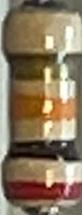Black: (7, 139, 81, 160)
Brown: (5, 53, 82, 81)
Orange: (11, 95, 76, 117)
Red: (3, 182, 81, 199)
